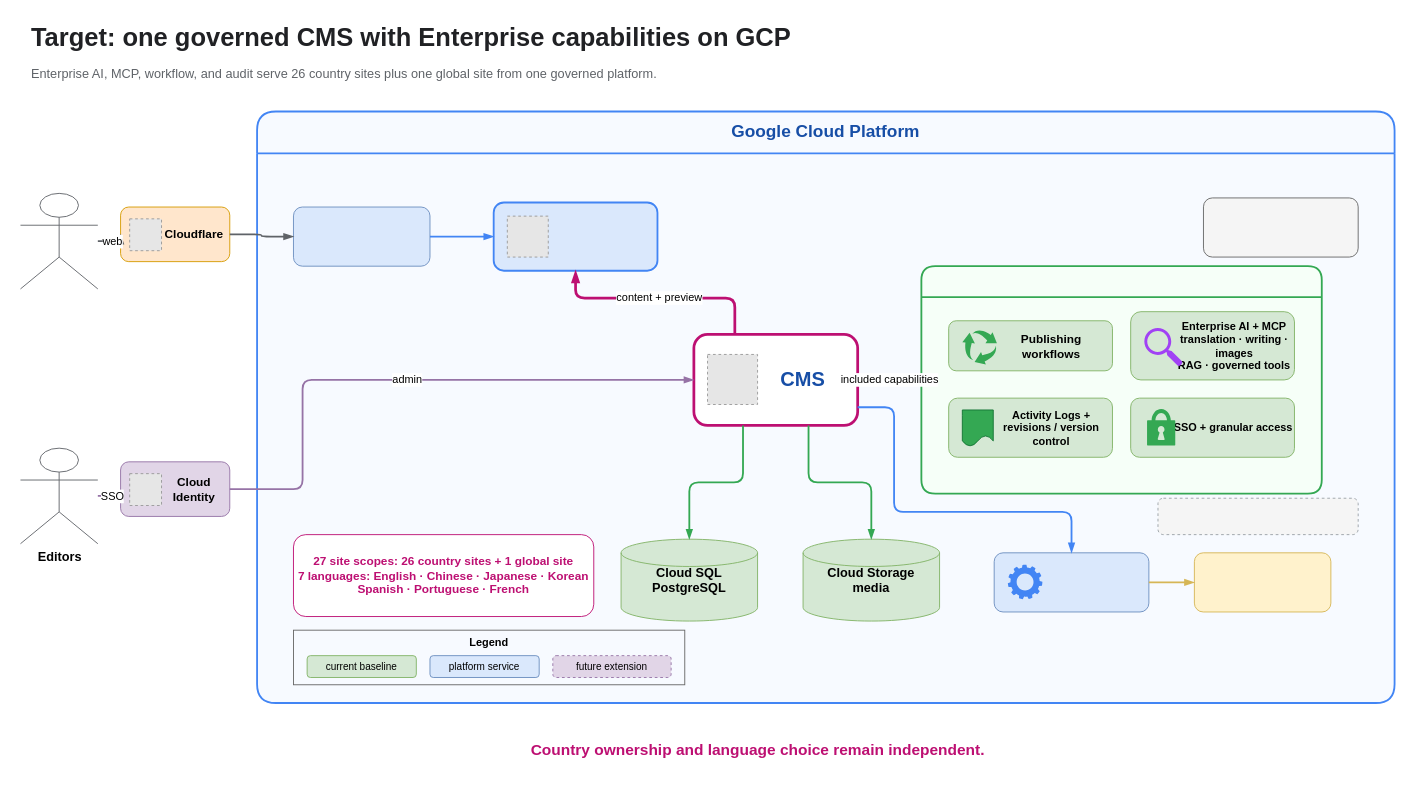
The diagram is 1411 pixels wide and 786 high, and some of its shapes have lost their labels. Grey dashed boxes stand in for pictures. The box of each missing label's shape, as (x1, y1, x2, y2) in pixels:
Current Enterprise capability baseline: (920, 265, 1322, 494)
Future model extension · confirmed gap only: (1157, 497, 1358, 535)
Jobs / integrations: (993, 552, 1149, 612)
Load balancing: (293, 206, 430, 266)
Logging / monitoring: (1203, 197, 1358, 257)
Next.js on GKE: (492, 201, 658, 271)
Pub/Sub + DLQ: (1193, 552, 1331, 612)
Website users: (20, 192, 98, 289)
